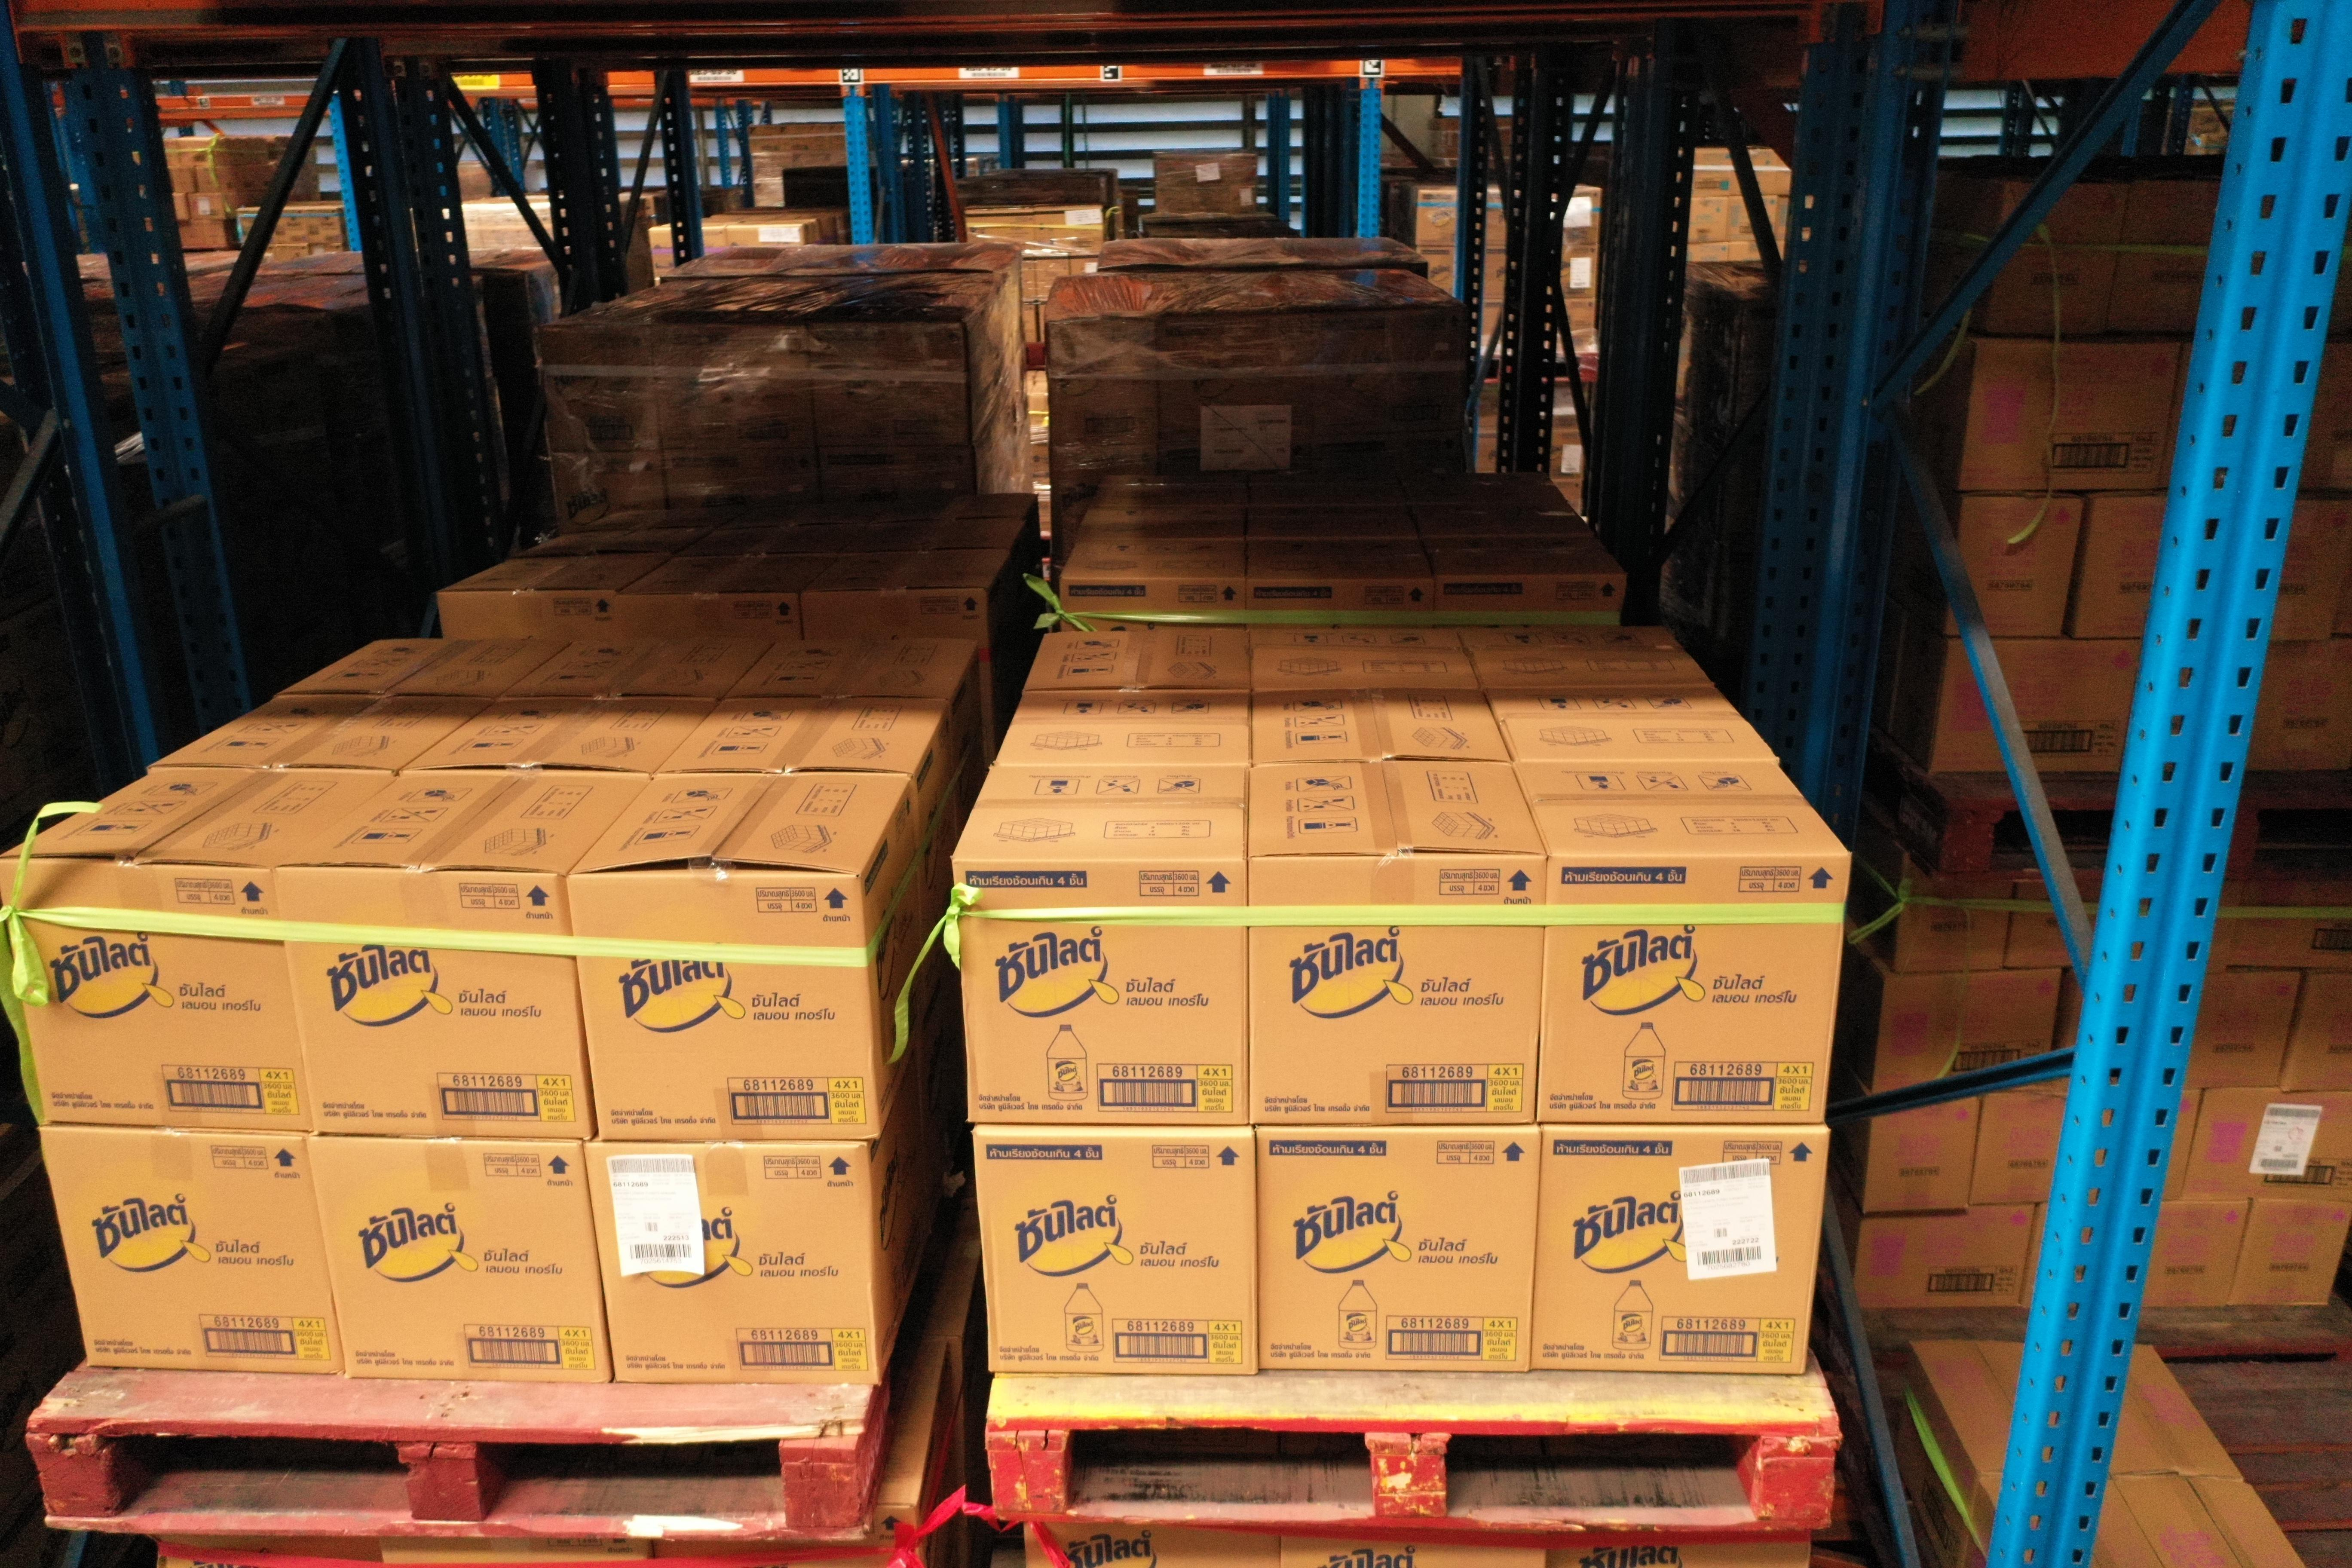-: (271, 864, 591, 1143), (0, 856, 315, 1136), (1538, 850, 1855, 1127), (567, 873, 880, 1141), (1249, 856, 1549, 1129), (950, 857, 1248, 1129), (38, 1127, 346, 1375), (311, 1136, 611, 1384), (1528, 1129, 1827, 1377), (584, 1143, 882, 1388), (975, 1130, 1258, 1375), (1256, 1129, 1542, 1372)
2: (1151, 308, 1316, 455), (651, 318, 819, 451), (812, 317, 975, 451), (1316, 304, 1470, 443), (537, 318, 663, 455), (1046, 315, 1158, 446)
box: (1960, 338, 2179, 493), (1930, 635, 2144, 775), (1874, 966, 2063, 1090), (1984, 178, 2128, 341), (1948, 492, 2084, 640), (2182, 1090, 2352, 1209), (1850, 1206, 2035, 1312), (2114, 180, 2222, 341), (2180, 968, 2303, 1094), (1862, 1085, 1981, 1214), (1893, 857, 2018, 973), (2245, 639, 2352, 772), (2072, 495, 2168, 642), (2229, 1199, 2352, 1305), (2140, 1199, 2252, 1312), (1969, 1092, 2072, 1207), (2271, 497, 2352, 642), (2229, 880, 2352, 973), (2005, 877, 2105, 971), (2280, 971, 2352, 1092)
